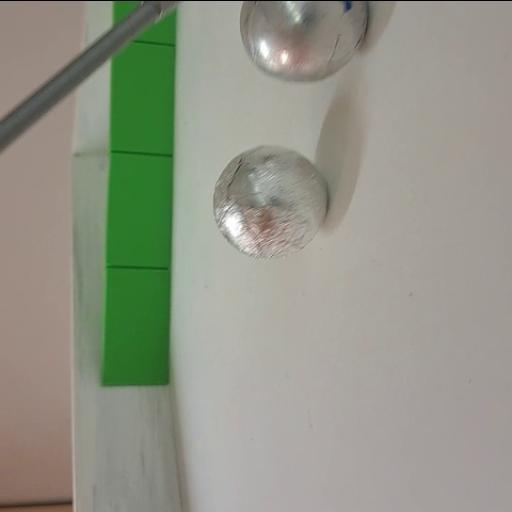alive: (213, 146, 326, 260), (240, 0, 370, 84)
